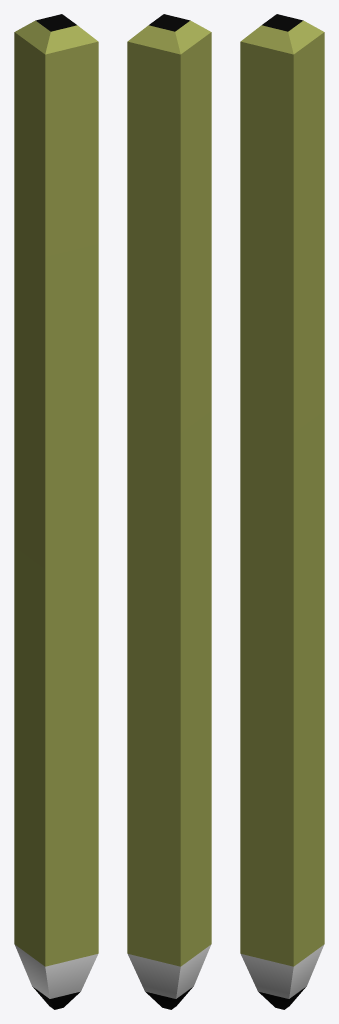
File: Pencil.fbx
3 renders of one model, left to right at view 1: azimuth 30°, elevation 25°; view 2: azimuth 150°, elevation 25°; view 3: azimuth 330°, elevation 25°, orthographic.
Visible parts, largest first — view 1: pCube2; view 2: pCube2; view 3: pCube2.
Part boxes in pixels (x1,y1,x2,y2): pCube2: [14, 14, 98, 1009]; pCube2: [127, 14, 211, 1009]; pCube2: [240, 14, 324, 1009].
Bounding box in the file's own units: 0.00779 × 0.1376 × 0.00779.
